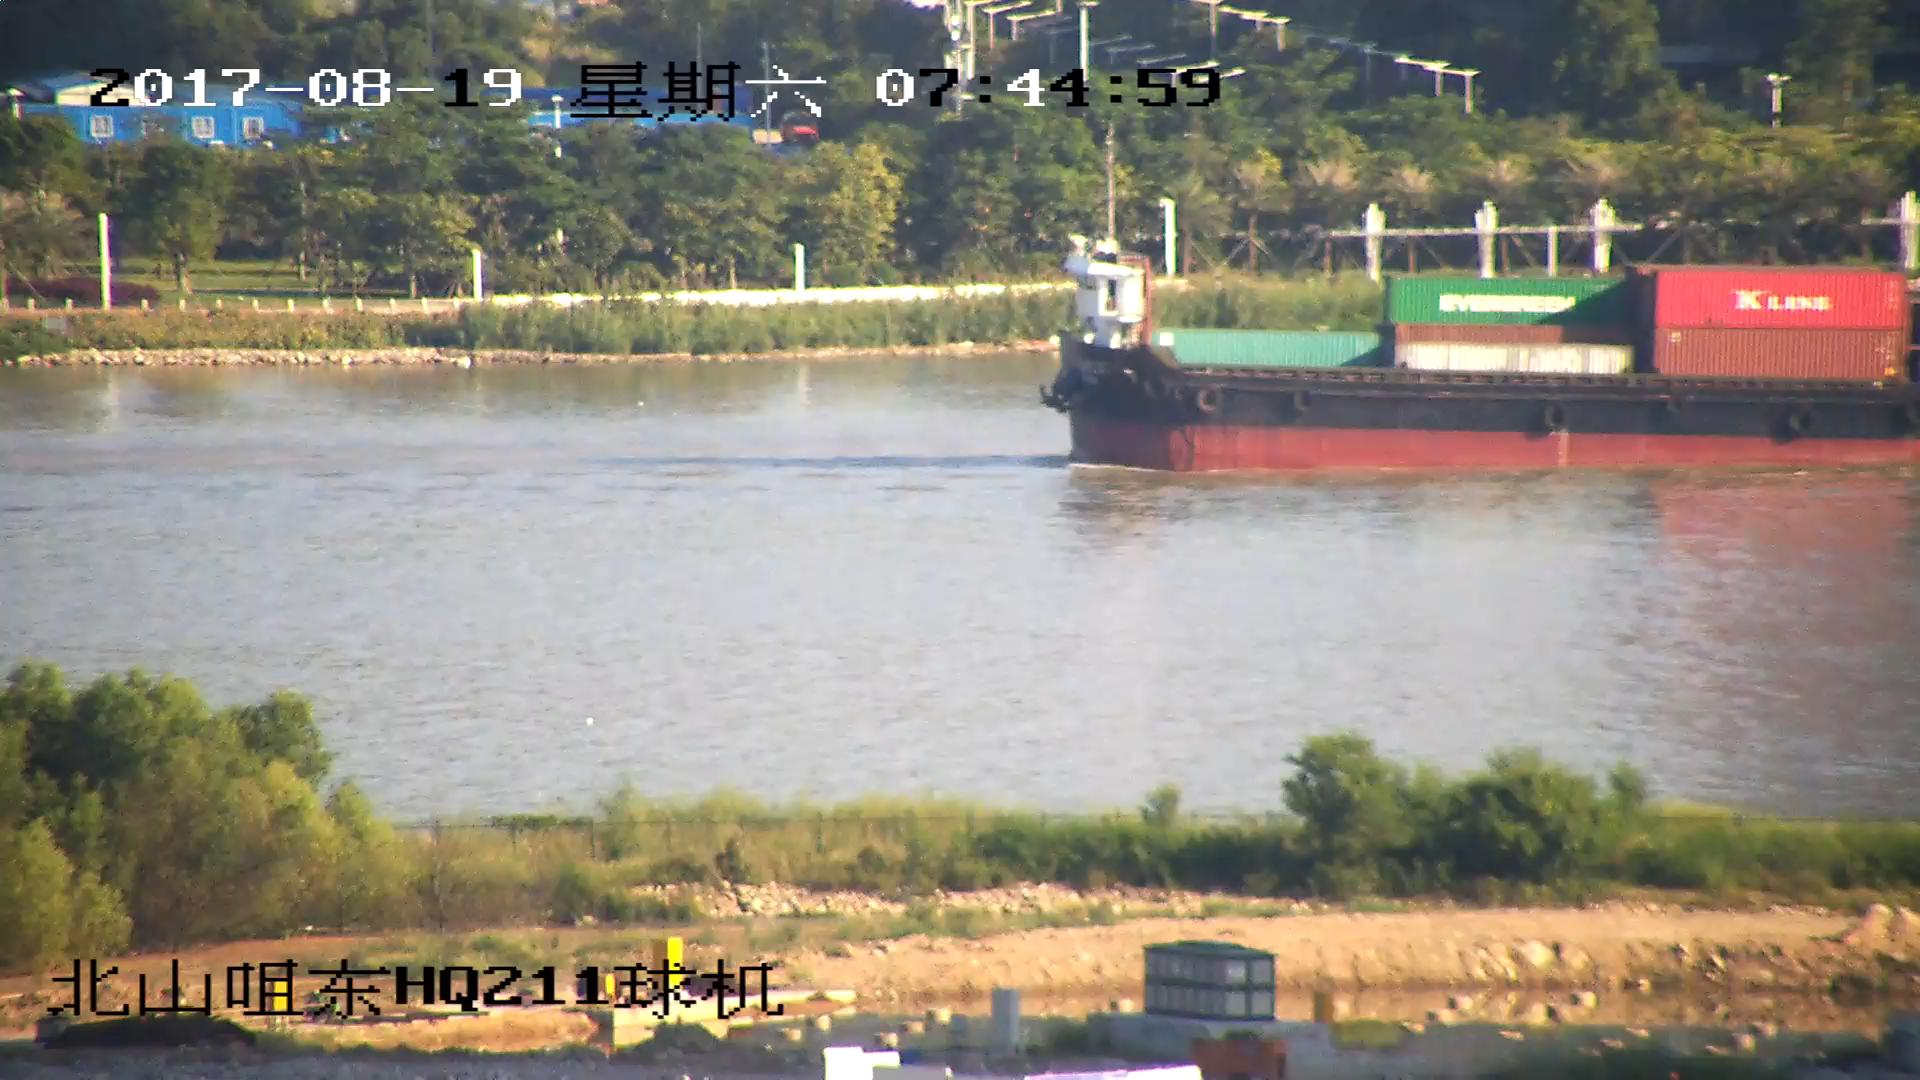container ship: (1037, 218, 1920, 479)
